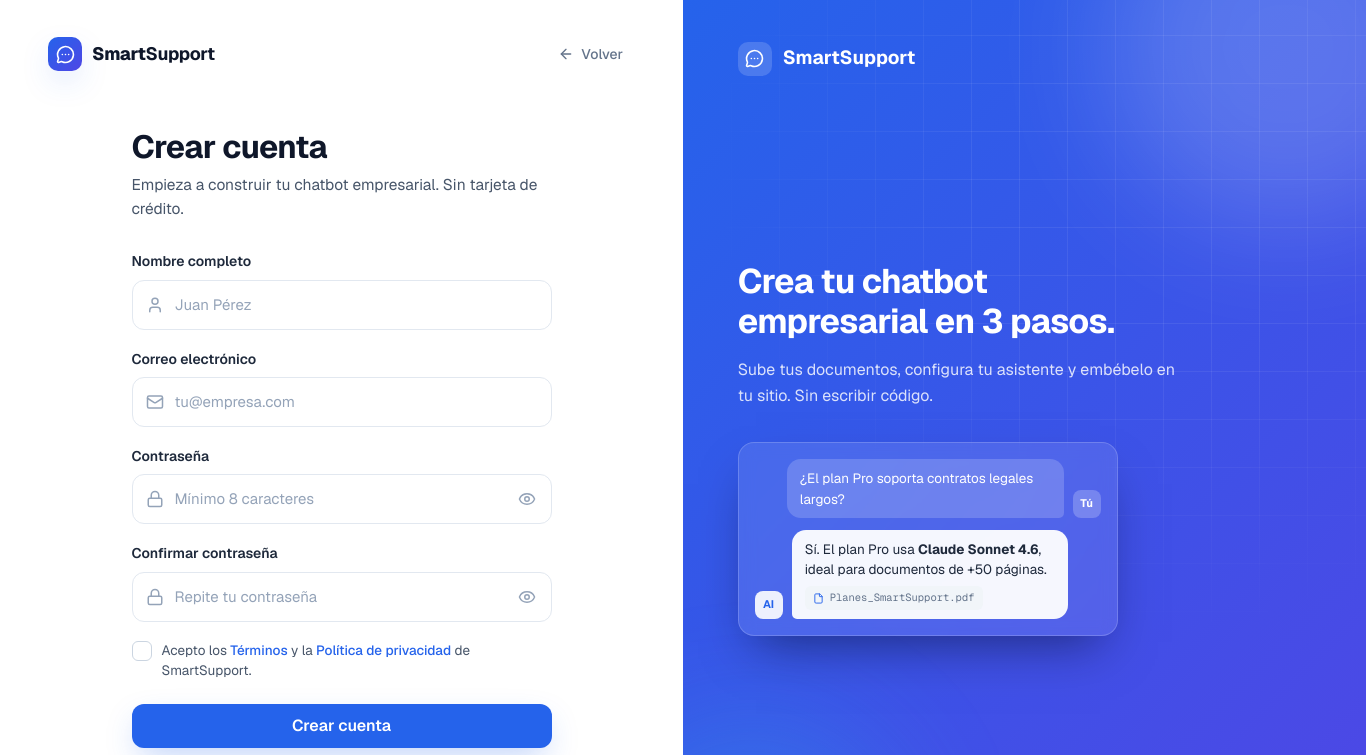
Test: RegisterPage › muestra error si la contraseña tiene menos de 8 caracteres
In the password field labelled "Contraseña": (342, 499) x1=132 y1=474 x2=552 y2=524, type "corta"
(page scrolled)
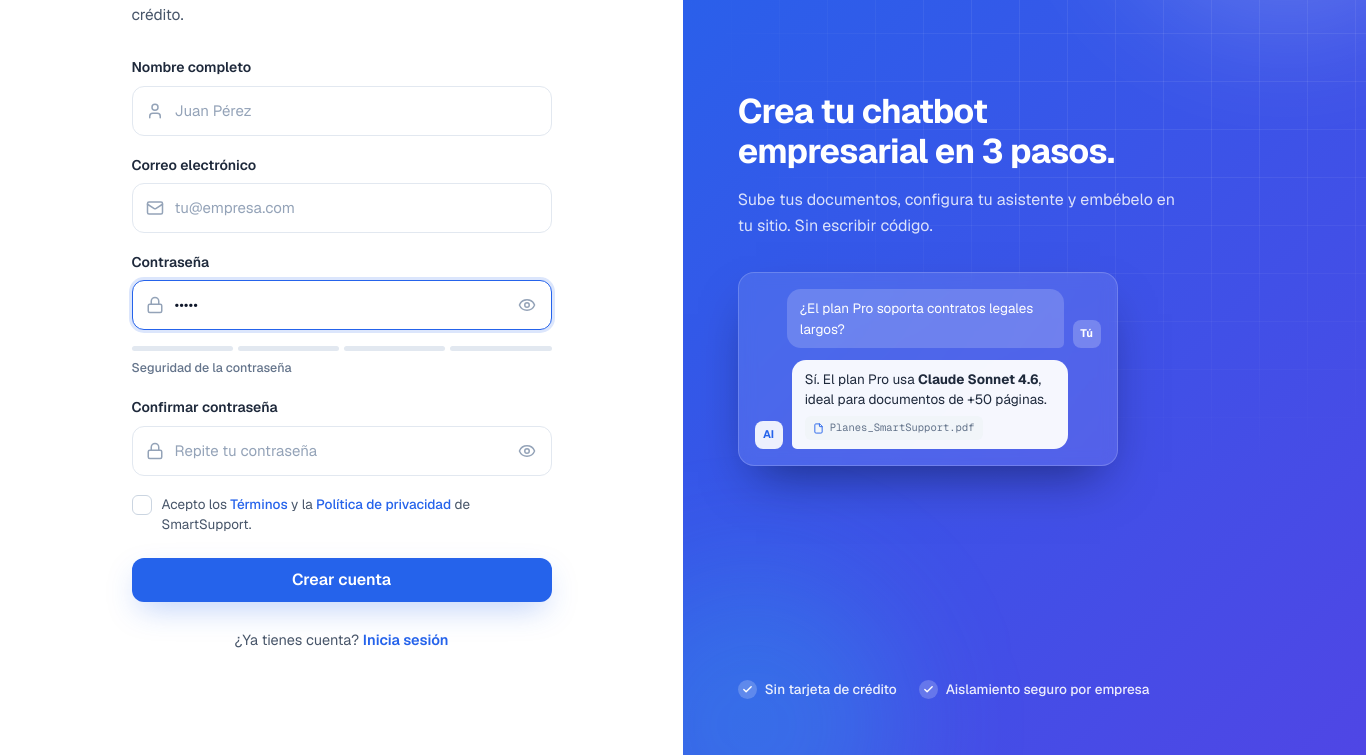
Click the button "Crear cuenta": click(342, 580) x1=132 y1=558 x2=552 y2=602
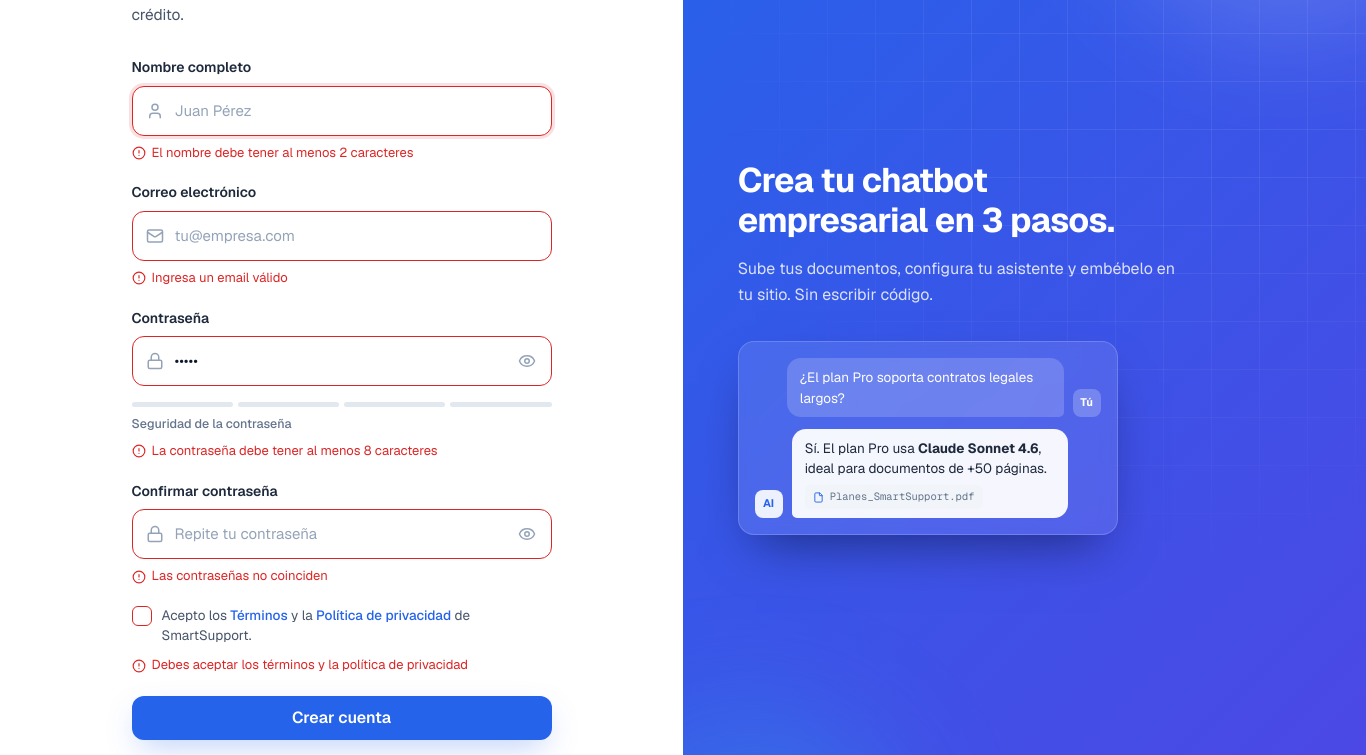
Check: the text "La contraseña debe tener al menos 8 caracteres" is shown, box x1=132 y1=442 x2=438 y2=459
